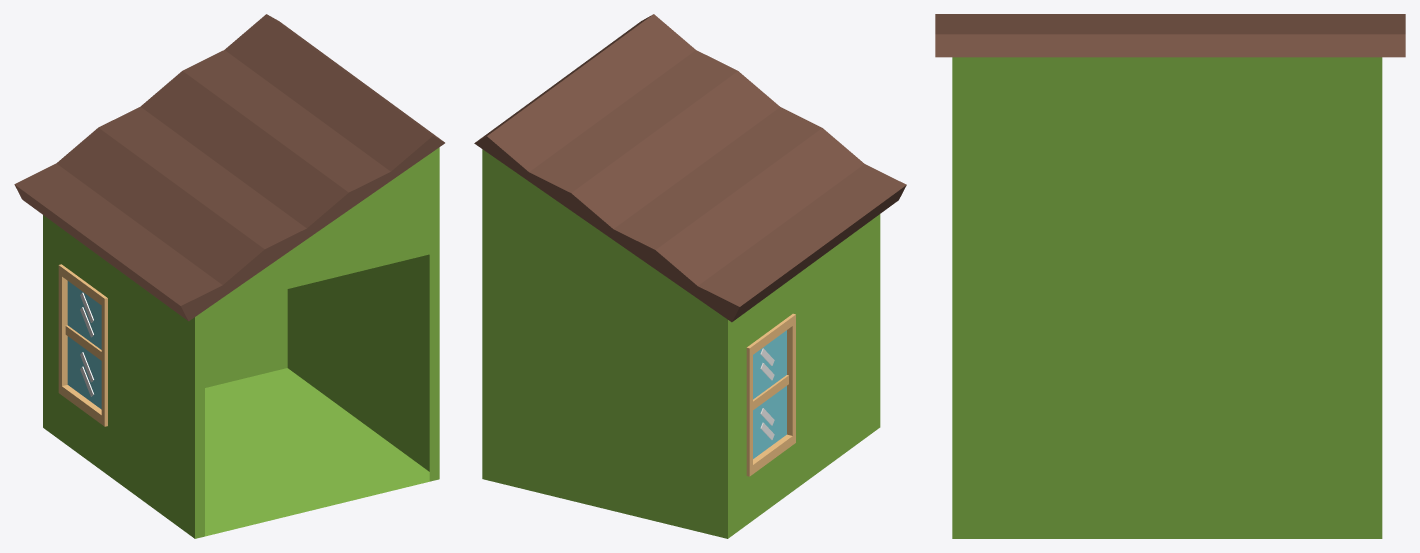
The model's file is garage_inside.fbx.
3 views of the same model, side by side, from view 1: azimuth 30°, elevation 25°; view 2: azimuth 150°, elevation 25°; view 3: azimuth 270°, elevation 25° (orthographic). The views are drawn at different scales.
Visible parts, largest first — view 1: Garage_inside; view 2: Garage_inside; view 3: Garage_inside.
Part boxes in pixels (left/top/right/bottom): Garage_inside: left=14, top=14, right=444, bottom=538; Garage_inside: left=474, top=14, right=906, bottom=538; Garage_inside: left=935, top=14, right=1405, bottom=538.
Size of the model in its own units: 4.61 by 5.84 by 5.02.
